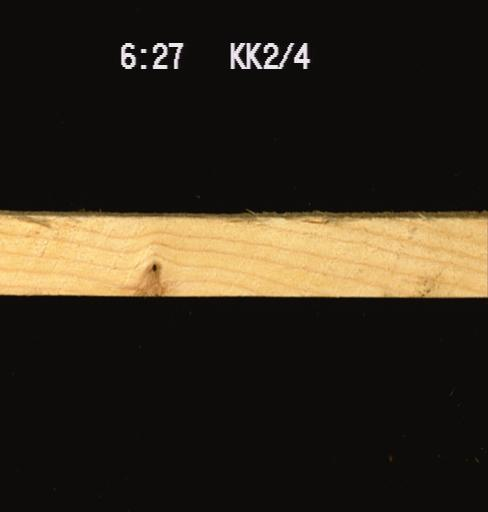small_knot: (149, 260, 157, 273)
split: (304, 217, 333, 223)
